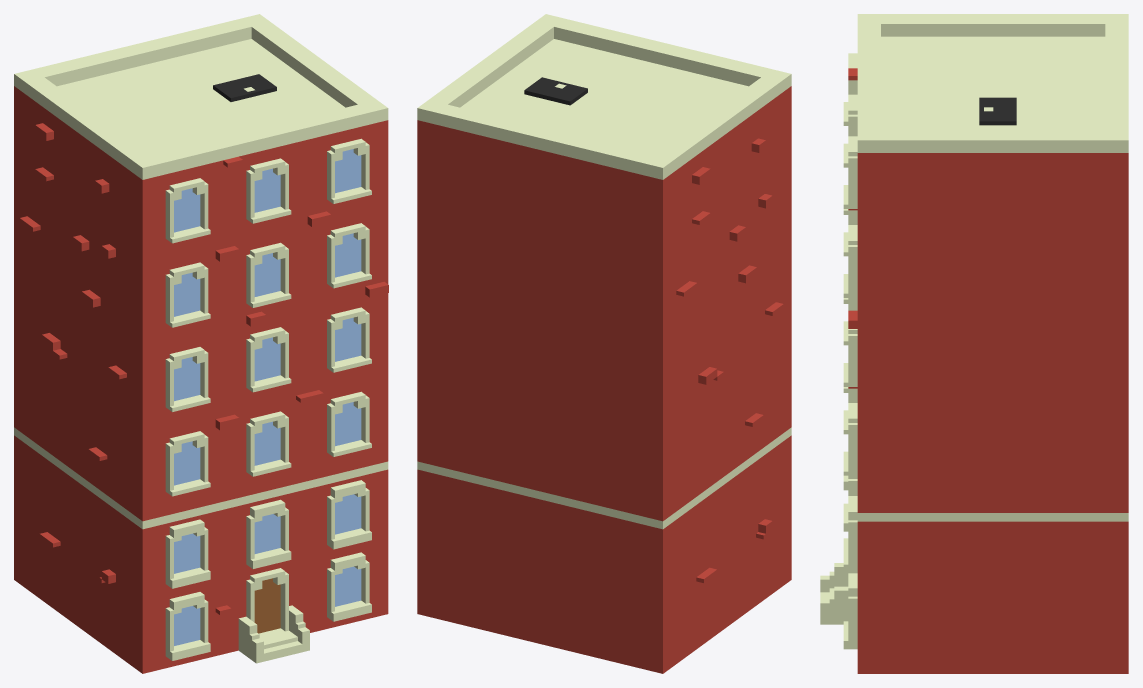
The model's file is house.obj.
3 views of the same model, side by side, from view 1: azimuth 30°, elevation 25°; view 2: azimuth 150°, elevation 25°; view 3: azimuth 270°, elevation 25° (orthographic). The views are drawn at different scales.
Bounding box in the file's own units: 6.6 × 12.6 × 6.6.
1 material, 1 textured.
